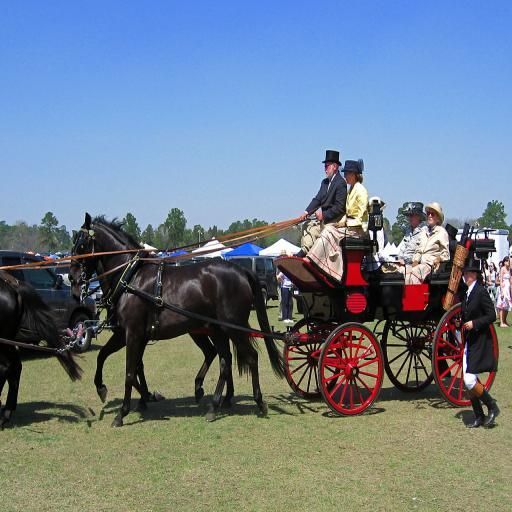Horse: (66, 210, 296, 424), (69, 229, 263, 409), (0, 275, 89, 429), (0, 272, 43, 420)
